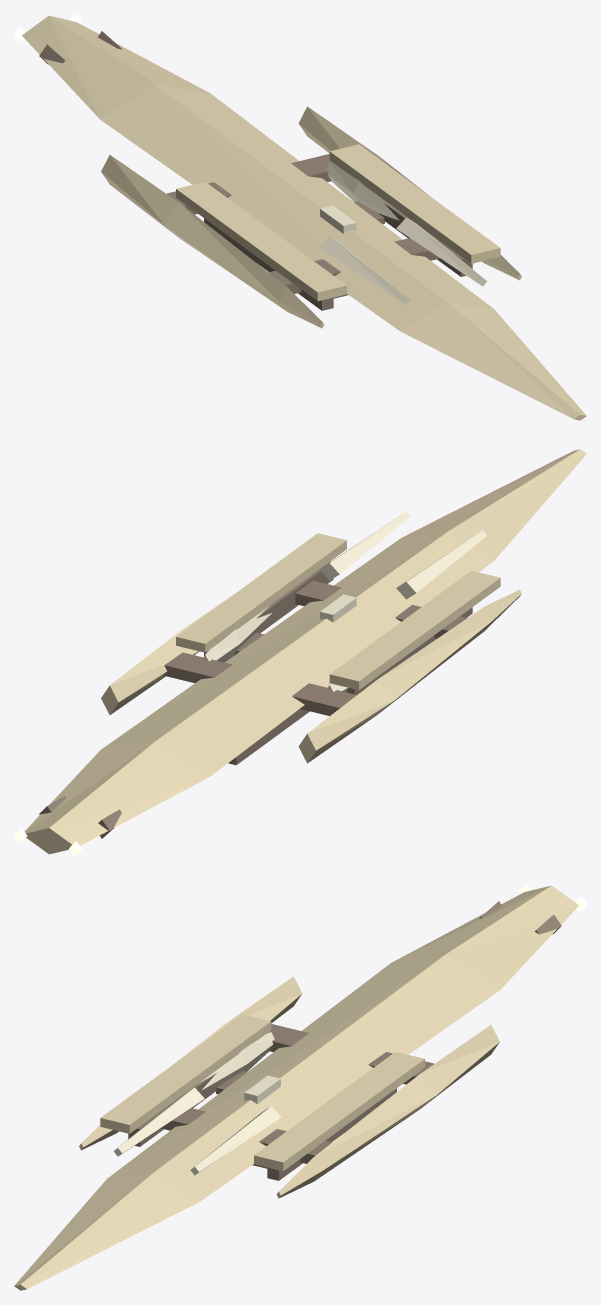
3 renders of one model, top to bottom at view 1: azimuth 30°, elevation 25°; view 2: azimuth 150°, elevation 25°; view 3: azimuth 330°, elevation 25°, orthographic.
Size of the model in its own units: 5.21 by 1.63 by 21.
